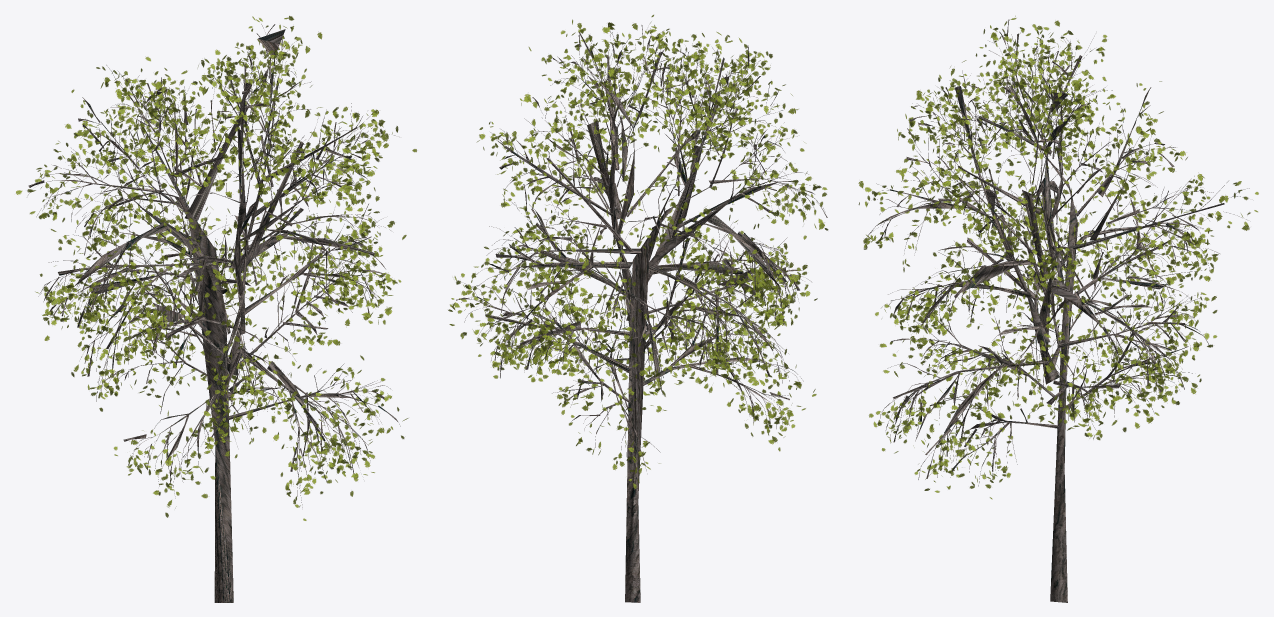
Rendered from tree_01_lod2.glb.
3 renders of one model, left to right at view 1: azimuth 30°, elevation 25°; view 2: azimuth 150°, elevation 25°; view 3: azimuth 270°, elevation 25°, orthographic. The views are drawn at different scales.
Parts seen in each view (by area): view 1: Tree_01_LOD2; view 2: Tree_01_LOD2; view 3: Tree_01_LOD2.
Boxes of the visible parts, bbox=[...] form: Tree_01_LOD2: bbox=[16, 16, 416, 602]; Tree_01_LOD2: bbox=[448, 14, 828, 602]; Tree_01_LOD2: bbox=[858, 16, 1258, 602].
Size of the model in its own units: 9.34 by 14.07 by 9.39.
Materials: 3 (3 with a texture image).
